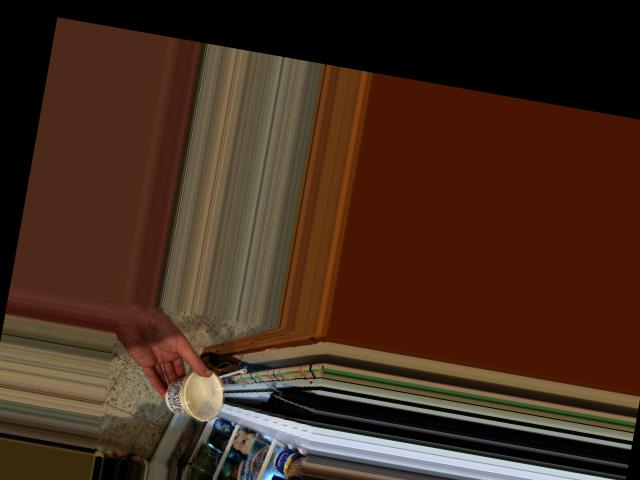cotage: (161, 365, 224, 420)
